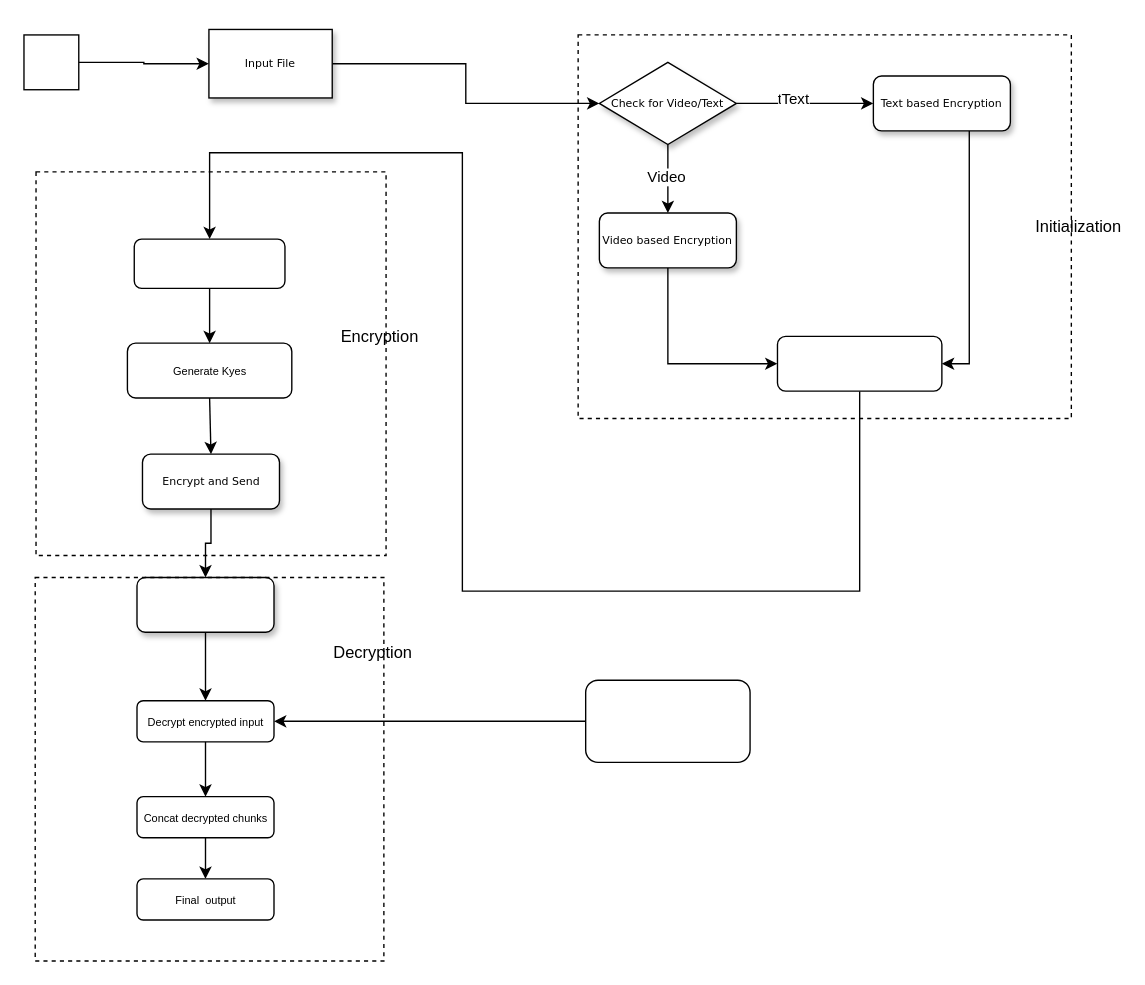
Image size: 1145x985. Some labels were removed from this diagram. The centre of each missing label's shape, as x and y in pixels:
"Create chunks" goes at point (209, 263).
"Load Private Key" goes at point (667, 720).
"Load public key of reciever" goes at point (859, 363).
"Recieve encrypted input" goes at point (206, 606).
"User" goes at point (51, 62).
